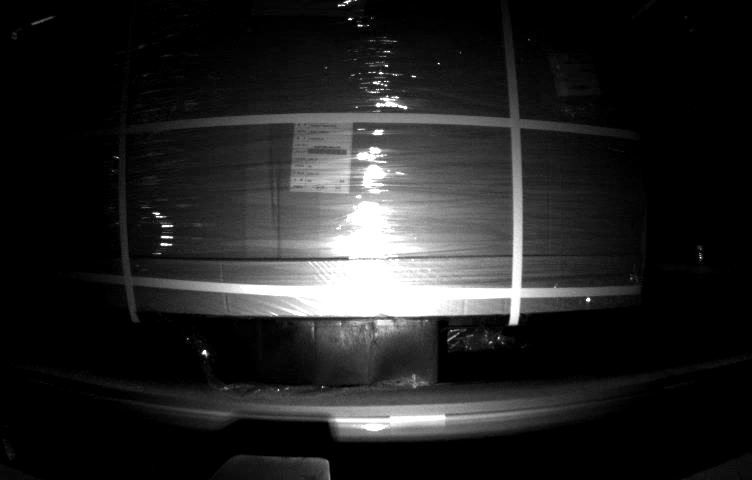True Barcode: (553, 50, 602, 98)
